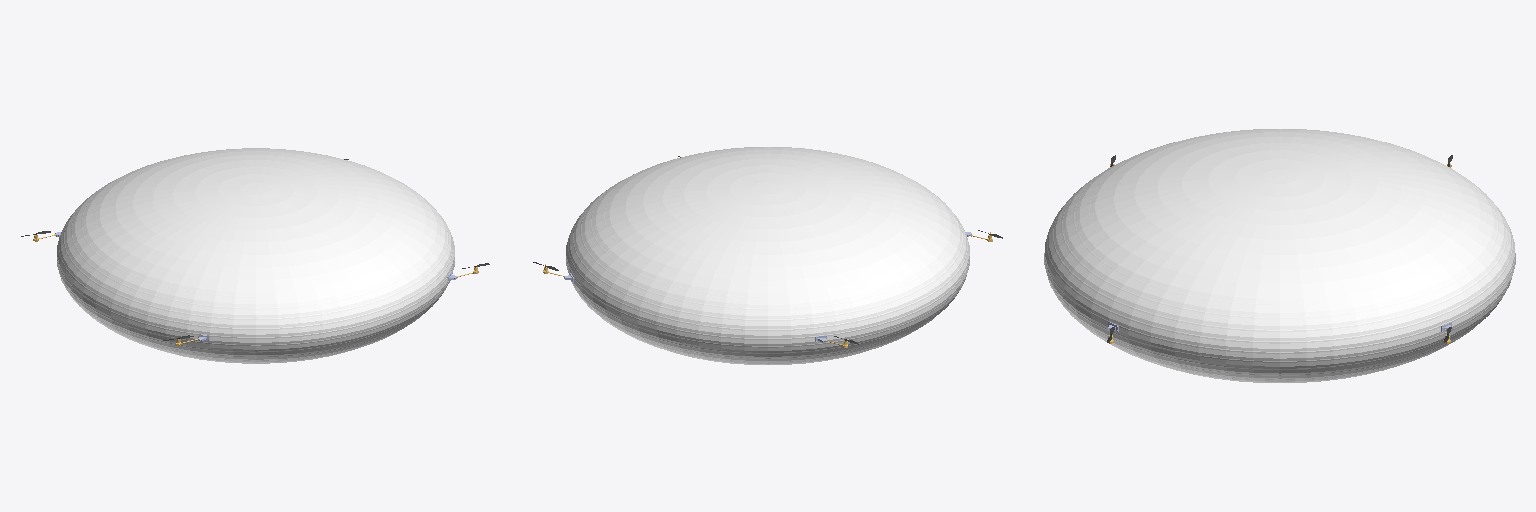
URDF robot description (Full assembly Final2):
<?xml version="1.0" encoding="utf-8"?>
<!-- This URDF was automatically created by SolidWorks to URDF Exporter! Originally created by [author] ([email redacted]) 
     Commit Version: 1.4.2-27-gc3b3358  Build Version: 1.4.6891.25992
     For more information, please see http://wiki.ros.org/sw_urdf_exporter -->
<robot
  name="Full assembly Final2">
  <link
    name="envolope and servos">
    <inertial>
      <origin
        xyz="1.7803E-15 -6.3642E-14 -5.6805E-15"
        rpy="0 0 0" />
      <mass
        value="0.85" />
      <inertia
        ixx="10.74"
        ixy="9.8215E-18"
        ixz="2.6492E-14"
        iyy="10.74"
        iyz="0.0034459"
        izz="17.795" />
    </inertial>
    <visual>
      <origin
        xyz="0 0 0"
        rpy="0 0 0" />
      <geometry>
        <mesh
          filename="package://Full assembly Final2/meshes/envolope and servos.STL" />
      </geometry>
      <material
        name="">
        <color
          rgba="1 1 1 1" />
      </material>
    </visual>
    <collision>
      <origin
        xyz="0 0 0"
        rpy="0 0 0" />
      <geometry>
        <mesh
          filename="package://Full assembly Final2/meshes/envolope and servos.STL" />
      </geometry>
    </collision>
  </link>
  <link
    name="Bracket 1">
    <inertial>
      <origin
        xyz="0.98823 -0.97437 0.00055778"
        rpy="0 0 0" />
      <mass
        value="0.052" />
      <inertia
        ixx="1.3454E-05"
        ixy="-4.5931E-06"
        ixz="1.6505E-07"
        iyy="1.3029E-05"
        iyz="-1.5706E-07"
        izz="2.0557E-05" />
    </inertial>
    <visual>
      <origin
        xyz="0 0 0"
        rpy="0 0 0" />
      <geometry>
        <mesh
          filename="package://Full assembly Final2/meshes/Bracket 1.STL" />
      </geometry>
      <material
        name="">
        <color
          rgba="0.79608 0.82353 0.93725 1" />
      </material>
    </visual>
    <collision>
      <origin
        xyz="0 0 0"
        rpy="0 0 0" />
      <geometry>
        <mesh
          filename="package://Full assembly Final2/meshes/Bracket 1.STL" />
      </geometry>
    </collision>
  </link>
  <joint
    name="B1"
    type="fixed">
    <origin
      xyz="0 0 0"
      rpy="0 0 0" />
    <parent
      link="envolope and servos" />
    <child
      link="Bracket 1" />
    <axis
      xyz="0 0 1" />
    <limit
      lower="0"
      upper="0"
      effort="0"
      velocity="0" />
    <safety_controller
      k_velocity="0" />
  </joint>
  <link
    name="Motor1">
    <inertial>
      <origin
        xyz="1.1388 -0.98449 0.007985"
        rpy="0 0 0" />
      <mass
        value="0.085" />
      <inertia
        ixx="2.6444E-06"
        ixy="-1.2805E-09"
        ixz="6.4664E-10"
        iyy="7.2927E-05"
        iyz="6.2507E-08"
        izz="7.4062E-05" />
    </inertial>
    <visual>
      <origin
        xyz="0 0 0"
        rpy="0 0 0" />
      <geometry>
        <mesh
          filename="package://Full assembly Final2/meshes/Motor1.STL" />
      </geometry>
      <material
        name="">
        <color
          rgba="0.95294 0.79608 0.48627 1" />
      </material>
    </visual>
    <collision>
      <origin
        xyz="0 0 0"
        rpy="0 0 0" />
      <geometry>
        <mesh
          filename="package://Full assembly Final2/meshes/Motor1.STL" />
      </geometry>
    </collision>
  </link>
  <joint
    name="M1"
    type="revolute">
    <origin
      xyz="0 0 0"
      rpy="0 0 0" />
    <parent
      link="Bracket 1" />
    <child
      link="Motor1" />
    <axis
      xyz="0 0 0" />
    <limit
      lower="0"
      upper="0"
      effort="0"
      velocity="0" />
    <safety_controller
      k_velocity="0" />
  </joint>
  <link
    name="Prop1">
    <inertial>
      <origin
        xyz="1.1765 -0.98245 0.045278"
        rpy="0 0 0" />
      <mass
        value="0.0097" />
      <inertia
        ixx="3.7868E-07"
        ixy="2.0553E-06"
        ixz="-1.1306E-07"
        iyy="1.9514E-05"
        iyz="1.8641E-08"
        izz="1.9852E-05" />
    </inertial>
    <visual>
      <origin
        xyz="0 0 0"
        rpy="0 0 0" />
      <geometry>
        <mesh
          filename="package://Full assembly Final2/meshes/Prop1.STL" />
      </geometry>
      <material
        name="">
        <color
          rgba="0.29412 0.29412 0.29412 1" />
      </material>
    </visual>
    <collision>
      <origin
        xyz="0 0 0"
        rpy="0 0 0" />
      <geometry>
        <mesh
          filename="package://Full assembly Final2/meshes/Prop1.STL" />
      </geometry>
    </collision>
  </link>
  <joint
    name="P1"
    type="revolute">
    <origin
      xyz="0 0 0"
      rpy="0 0 0" />
    <parent
      link="Motor1" />
    <child
      link="Prop1" />
    <axis
      xyz="0 0 0" />
    <limit
      lower="0"
      upper="0"
      effort="0"
      velocity="0" />
    <safety_controller
      k_velocity="0" />
  </joint>
  <link
    name="Bracket 2">
    <inertial>
      <origin
        xyz="-0.98823 -0.9752 -0.00055778"
        rpy="0 0 0" />
      <mass
        value="0.052" />
      <inertia
        ixx="1.3454E-05"
        ixy="4.6296E-06"
        ixz="1.6505E-07"
        iyy="1.3029E-05"
        iyz="1.5706E-07"
        izz="2.0557E-05" />
    </inertial>
    <visual>
      <origin
        xyz="0 0 0"
        rpy="0 0 0" />
      <geometry>
        <mesh
          filename="package://Full assembly Final2/meshes/Bracket 2.STL" />
      </geometry>
      <material
        name="">
        <color
          rgba="0.79608 0.82353 0.93725 1" />
      </material>
    </visual>
    <collision>
      <origin
        xyz="0 0 0"
        rpy="0 0 0" />
      <geometry>
        <mesh
          filename="package://Full assembly Final2/meshes/Bracket 2.STL" />
      </geometry>
    </collision>
  </link>
  <joint
    name="B2"
    type="fixed">
    <origin
      xyz="0 0 0"
      rpy="0 0 0" />
    <parent
      link="envolope and servos" />
    <child
      link="Bracket 2" />
    <axis
      xyz="0 0 0" />
    <limit
      lower="0"
      upper="0"
      effort="0"
      velocity="0" />
    <safety_controller
      k_velocity="0" />
  </joint>
  <link
    name="Motor2">
    <inertial>
      <origin
        xyz="-1.1388 -0.97363 0.007985"
        rpy="0 0 0" />
      <mass
        value="0.085" />
      <inertia
        ixx="2.6444E-06"
        ixy="-1.2805E-09"
        ixz="-6.4664E-10"
        iyy="7.2927E-05"
        iyz="-6.2507E-08"
        izz="7.4062E-05" />
    </inertial>
    <visual>
      <origin
        xyz="0 0 0"
        rpy="0 0 0" />
      <geometry>
        <mesh
          filename="package://Full assembly Final2/meshes/Motor2.STL" />
      </geometry>
      <material
        name="">
        <color
          rgba="0.95294 0.79608 0.48627 1" />
      </material>
    </visual>
    <collision>
      <origin
        xyz="0 0 0"
        rpy="0 0 0" />
      <geometry>
        <mesh
          filename="package://Full assembly Final2/meshes/Motor2.STL" />
      </geometry>
    </collision>
  </link>
  <joint
    name="M2"
    type="revolute">
    <origin
      xyz="0 0 0"
      rpy="0 0 0" />
    <parent
      link="Bracket 2" />
    <child
      link="Motor2" />
    <axis
      xyz="0 0 0" />
    <limit
      lower="0"
      upper="0"
      effort="0"
      velocity="0" />
    <safety_controller
      k_velocity="0" />
  </joint>
  <link
    name="Prop2">
    <inertial>
      <origin
        xyz="-1.1765 -0.97568 0.045278"
        rpy="0 0 0" />
      <mass
        value="0.0097" />
      <inertia
        ixx="3.7868E-07"
        ixy="2.0553E-06"
        ixz="1.1306E-07"
        iyy="1.9514E-05"
        iyz="-1.8641E-08"
        izz="1.9852E-05" />
    </inertial>
    <visual>
      <origin
        xyz="0 0 0"
        rpy="0 0 0" />
      <geometry>
        <mesh
          filename="package://Full assembly Final2/meshes/Prop2.STL" />
      </geometry>
      <material
        name="">
        <color
          rgba="0.29412 0.29412 0.29412 1" />
      </material>
    </visual>
    <collision>
      <origin
        xyz="0 0 0"
        rpy="0 0 0" />
      <geometry>
        <mesh
          filename="package://Full assembly Final2/meshes/Prop2.STL" />
      </geometry>
    </collision>
  </link>
  <joint
    name="P2"
    type="revolute">
    <origin
      xyz="0 0 0"
      rpy="0 0 0" />
    <parent
      link="Motor2" />
    <child
      link="Prop2" />
    <axis
      xyz="0 0 0" />
    <limit
      lower="0"
      upper="0"
      effort="0"
      velocity="0" />
    <safety_controller
      k_velocity="0" />
  </joint>
  <link
    name="Bracket 3">
    <inertial>
      <origin
        xyz="0.98823 0.9752 -0.00055778"
        rpy="0 0 0" />
      <mass
        value="0.052" />
      <inertia
        ixx="1.3454E-05"
        ixy="4.6296E-06"
        ixz="-1.6505E-07"
        iyy="1.3029E-05"
        iyz="-1.5706E-07"
        izz="2.0557E-05" />
    </inertial>
    <visual>
      <origin
        xyz="0 0 0"
        rpy="0 0 0" />
      <geometry>
        <mesh
          filename="package://Full assembly Final2/meshes/Bracket 3.STL" />
      </geometry>
      <material
        name="">
        <color
          rgba="0.79608 0.82353 0.93725 1" />
      </material>
    </visual>
    <collision>
      <origin
        xyz="0 0 0"
        rpy="0 0 0" />
      <geometry>
        <mesh
          filename="package://Full assembly Final2/meshes/Bracket 3.STL" />
      </geometry>
    </collision>
  </link>
  <joint
    name="B3"
    type="fixed">
    <origin
      xyz="0 0 0"
      rpy="0 0 0" />
    <parent
      link="envolope and servos" />
    <child
      link="Bracket 3" />
    <axis
      xyz="0 0 0" />
    <limit
      lower="0"
      upper="0"
      effort="0"
      velocity="0" />
    <safety_controller
      k_velocity="0" />
  </joint>
  <link
    name="Motor3">
    <inertial>
      <origin
        xyz="1.1388 0.97363 0.007985"
        rpy="0 0 0" />
      <mass
        value="0.085" />
      <inertia
        ixx="2.6444E-06"
        ixy="-1.2805E-09"
        ixz="6.4664E-10"
        iyy="7.2927E-05"
        iyz="6.2507E-08"
        izz="7.4062E-05" />
    </inertial>
    <visual>
      <origin
        xyz="0 0 0"
        rpy="0 0 0" />
      <geometry>
        <mesh
          filename="package://Full assembly Final2/meshes/Motor3.STL" />
      </geometry>
      <material
        name="">
        <color
          rgba="0.95294 0.79608 0.48627 1" />
      </material>
    </visual>
    <collision>
      <origin
        xyz="0 0 0"
        rpy="0 0 0" />
      <geometry>
        <mesh
          filename="package://Full assembly Final2/meshes/Motor3.STL" />
      </geometry>
    </collision>
  </link>
  <joint
    name="M3"
    type="revolute">
    <origin
      xyz="0 0 0"
      rpy="0 0 0" />
    <parent
      link="Bracket 3" />
    <child
      link="Motor3" />
    <axis
      xyz="0 0 0" />
    <limit
      lower="0"
      upper="0"
      effort="0"
      velocity="0" />
    <safety_controller
      k_velocity="0" />
  </joint>
  <link
    name="Prop3">
    <inertial>
      <origin
        xyz="1.1765 0.97568 0.045278"
        rpy="0 0 0" />
      <mass
        value="0.0097" />
      <inertia
        ixx="3.7868E-07"
        ixy="2.0553E-06"
        ixz="-1.1306E-07"
        iyy="1.9514E-05"
        iyz="1.8641E-08"
        izz="1.9852E-05" />
    </inertial>
    <visual>
      <origin
        xyz="0 0 0"
        rpy="0 0 0" />
      <geometry>
        <mesh
          filename="package://Full assembly Final2/meshes/Prop3.STL" />
      </geometry>
      <material
        name="">
        <color
          rgba="0.29412 0.29412 0.29412 1" />
      </material>
    </visual>
    <collision>
      <origin
        xyz="0 0 0"
        rpy="0 0 0" />
      <geometry>
        <mesh
          filename="package://Full assembly Final2/meshes/Prop3.STL" />
      </geometry>
    </collision>
  </link>
  <joint
    name="P3"
    type="revolute">
    <origin
      xyz="0 0 0"
      rpy="0 0 0" />
    <parent
      link="Motor3" />
    <child
      link="Prop3" />
    <axis
      xyz="0 0 0" />
    <limit
      lower="0"
      upper="0"
      effort="0"
      velocity="0" />
    <safety_controller
      k_velocity="0" />
  </joint>
  <link
    name="Bracket 4">
    <inertial>
      <origin
        xyz="-0.98823 0.97437 0.00055778"
        rpy="0 0 0" />
      <mass
        value="0.052" />
      <inertia
        ixx="1.3454E-05"
        ixy="-4.5931E-06"
        ixz="-1.6505E-07"
        iyy="1.3029E-05"
        iyz="1.5706E-07"
        izz="2.0557E-05" />
    </inertial>
    <visual>
      <origin
        xyz="0 0 0"
        rpy="0 0 0" />
      <geometry>
        <mesh
          filename="package://Full assembly Final2/meshes/Bracket 4.STL" />
      </geometry>
      <material
        name="">
        <color
          rgba="0.79608 0.82353 0.93725 1" />
      </material>
    </visual>
    <collision>
      <origin
        xyz="0 0 0"
        rpy="0 0 0" />
      <geometry>
        <mesh
          filename="package://Full assembly Final2/meshes/Bracket 4.STL" />
      </geometry>
    </collision>
  </link>
  <joint
    name="B4"
    type="fixed">
    <origin
      xyz="0 0 0"
      rpy="0 0 0" />
    <parent
      link="envolope and servos" />
    <child
      link="Bracket 4" />
    <axis
      xyz="0 0 0" />
    <limit
      lower="0"
      upper="0"
      effort="0"
      velocity="0" />
    <safety_controller
      k_velocity="0" />
  </joint>
  <link
    name="Motor4">
    <inertial>
      <origin
        xyz="-1.1388 0.98449 0.007985"
        rpy="0 0 0" />
      <mass
        value="0.085" />
      <inertia
        ixx="2.6444E-06"
        ixy="-1.2805E-09"
        ixz="-6.4664E-10"
        iyy="7.2927E-05"
        iyz="-6.2507E-08"
        izz="7.4062E-05" />
    </inertial>
    <visual>
      <origin
        xyz="0 0 0"
        rpy="0 0 0" />
      <geometry>
        <mesh
          filename="package://Full assembly Final2/meshes/Motor4.STL" />
      </geometry>
      <material
        name="">
        <color
          rgba="0.95294 0.79608 0.48627 1" />
      </material>
    </visual>
    <collision>
      <origin
        xyz="0 0 0"
        rpy="0 0 0" />
      <geometry>
        <mesh
          filename="package://Full assembly Final2/meshes/Motor4.STL" />
      </geometry>
    </collision>
  </link>
  <joint
    name="M4"
    type="revolute">
    <origin
      xyz="0 0 0"
      rpy="0 0 0" />
    <parent
      link="Bracket 4" />
    <child
      link="Motor4" />
    <axis
      xyz="0 0 0" />
    <limit
      lower="0"
      upper="0"
      effort="0"
      velocity="0" />
    <safety_controller
      k_velocity="0" />
  </joint>
  <link
    name="Prop4">
    <inertial>
      <origin
        xyz="-1.1765 0.98245 0.045278"
        rpy="0 0 0" />
      <mass
        value="0.0097" />
      <inertia
        ixx="3.7868E-07"
        ixy="2.0553E-06"
        ixz="1.1306E-07"
        iyy="1.9514E-05"
        iyz="-1.8641E-08"
        izz="1.9852E-05" />
    </inertial>
    <visual>
      <origin
        xyz="0 0 0"
        rpy="0 0 0" />
      <geometry>
        <mesh
          filename="package://Full assembly Final2/meshes/Prop4.STL" />
      </geometry>
      <material
        name="">
        <color
          rgba="0.29412 0.29412 0.29412 1" />
      </material>
    </visual>
    <collision>
      <origin
        xyz="0 0 0"
        rpy="0 0 0" />
      <geometry>
        <mesh
          filename="package://Full assembly Final2/meshes/Prop4.STL" />
      </geometry>
    </collision>
  </link>
  <joint
    name="P4"
    type="revolute">
    <origin
      xyz="0 0 0"
      rpy="0 0 0" />
    <parent
      link="Motor4" />
    <child
      link="Prop4" />
    <axis
      xyz="0 0 0" />
    <limit
      lower="0"
      upper="0"
      effort="0"
      velocity="0" />
    <safety_controller
      k_velocity="0" />
  </joint>
  <link
    name="Gondola">
    <inertial>
      <origin
        xyz="0.00092234 -0.026608 -0.55761"
        rpy="0 0 0" />
      <mass
        value="2" />
      <inertia
        ixx="0.0016967"
        ixy="1.4826E-06"
        ixz="-4.5017E-09"
        iyy="0.0022068"
        iyz="1.0376E-08"
        izz="0.0034159" />
    </inertial>
    <visual>
      <origin
        xyz="0 0 0"
        rpy="0 0 0" />
      <geometry>
        <mesh
          filename="package://Full assembly Final2/meshes/Gondola.STL" />
      </geometry>
      <material
        name="">
        <color
          rgba="0.75294 0.75294 0.75294 1" />
      </material>
    </visual>
    <collision>
      <origin
        xyz="0 0 0"
        rpy="0 0 0" />
      <geometry>
        <mesh
          filename="package://Full assembly Final2/meshes/Gondola.STL" />
      </geometry>
    </collision>
  </link>
  <joint
    name="G"
    type="fixed">
    <origin
      xyz="0 0 0"
      rpy="0 0 0" />
    <parent
      link="envolope and servos" />
    <child
      link="Gondola" />
    <axis
      xyz="0 0 0" />
    <safety_controller
      k_velocity="0" />
  </joint>
  <link
    name="Ulta">
    <inertial>
      <origin
        xyz="2.3072E-08 -1.3848 0.00036898"
        rpy="0 0 0" />
      <mass
        value="0.193" />
      <inertia
        ixx="3.9599E-05"
        ixy="-1.1473E-10"
        ixz="-2.2495E-10"
        iyy="0.00046961"
        iyz="1.0515E-06"
        izz="0.00047006" />
    </inertial>
    <visual>
      <origin
        xyz="0 0 0"
        rpy="0 0 0" />
      <geometry>
        <mesh
          filename="package://Full assembly Final2/meshes/Ulta.STL" />
      </geometry>
      <material
        name="">
        <color
          rgba="0.75294 0.75294 0.75294 1" />
      </material>
    </visual>
    <collision>
      <origin
        xyz="0 0 0"
        rpy="0 0 0" />
      <geometry>
        <mesh
          filename="package://Full assembly Final2/meshes/Ulta.STL" />
      </geometry>
    </collision>
  </link>
  <joint
    name="U"
    type="fixed">
    <origin
      xyz="0 0 0"
      rpy="0 0 0" />
    <parent
      link="envolope and servos" />
    <child
      link="Ulta" />
    <axis
      xyz="0 0 0" />
    <safety_controller
      k_velocity="0" />
  </joint>
</robot>

--- What the picture shows (computed from the rendered views, not written in the file) ---
The picture shows the robot from 3 angles, left to right: view 1: azimuth 30°, elevation 25°; view 2: azimuth 150°, elevation 25°; view 3: azimuth 270°, elevation 25°; orthographic projection.
Model Full assembly Final2 with 15 links and 14 joints (8 revolute, 6 fixed), rooted at envolope and servos, posed all joints at 0.
Visible links, largest first — view 1: envolope and servos; view 2: envolope and servos; view 3: envolope and servos.
Boxes of the visible links, x1,y1,x2,y2 form: envolope and servos: (57, 148, 454, 363); envolope and servos: (566, 147, 969, 364); envolope and servos: (1044, 129, 1515, 382).
Bounding box of the posed robot: 2.74 × 2.74 × 1.02 m (x, y, z).
Meshes: 15 distinct files referenced, 13 mesh visuals loaded (13 binary STL); not drawn: 2 (reference not matched to a file when rendering).
